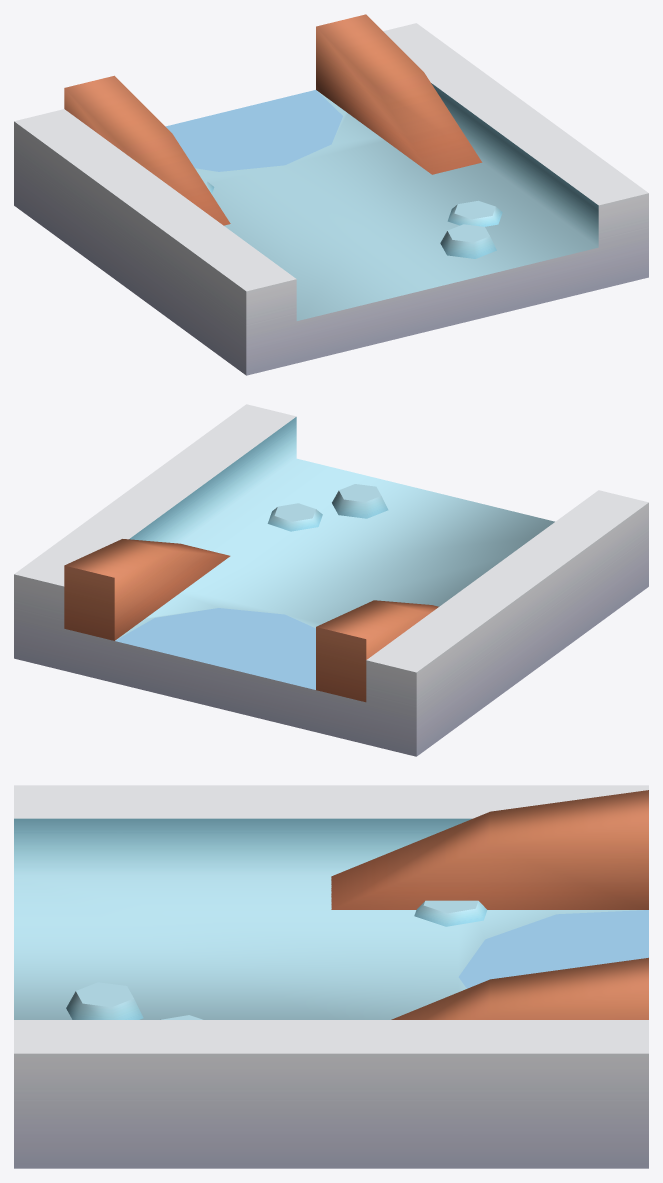
The model's file is kenney-tower-defense-snow-tile-river-transition.glb.
The picture shows the model from 3 angles, top to bottom: view 1: azimuth 30°, elevation 25°; view 2: azimuth 150°, elevation 25°; view 3: azimuth 270°, elevation 25°; orthographic projection. The views are drawn at different scales.
Parts seen in each view (by area): view 1: snow-tile-river-transition; view 2: snow-tile-river-transition; view 3: snow-tile-river-transition.
Part boxes in pixels (x1,y1,x2,y2): snow-tile-river-transition: [14, 14, 648, 375]; snow-tile-river-transition: [14, 404, 648, 756]; snow-tile-river-transition: [14, 785, 648, 1168].
Bounding box in the file's own units: 1 × 0.25 × 1.
Materials: 1 (1 with a texture image).
